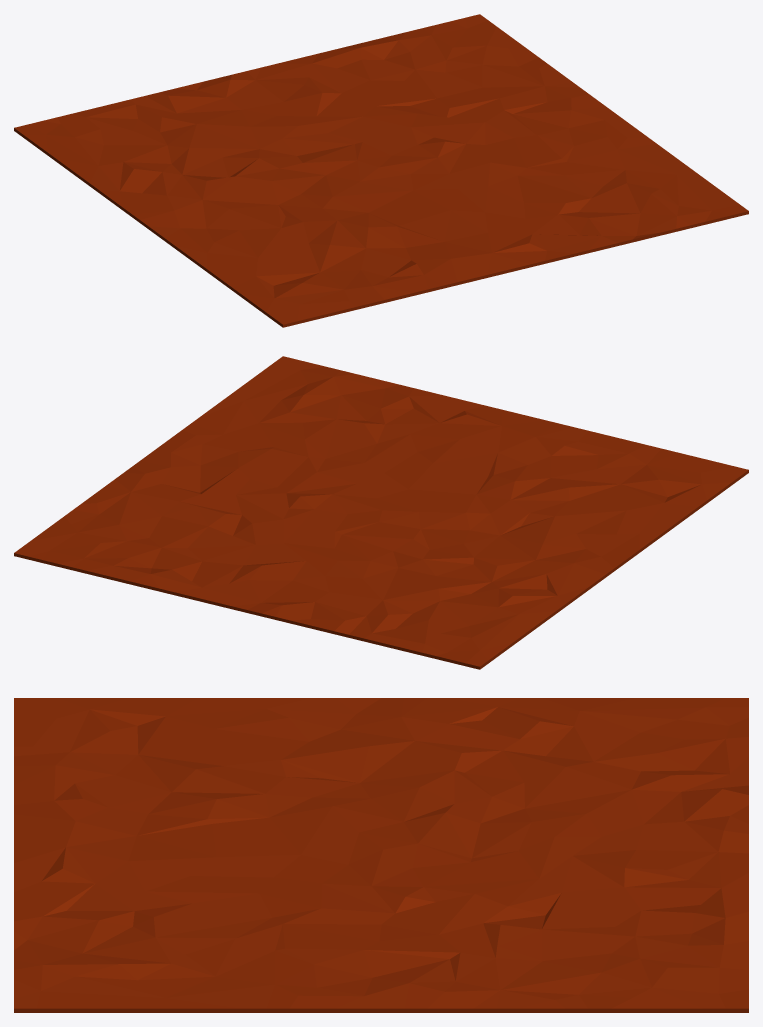
Rendered from PlanetFloorRed_02.glb.
3 renders of one model, top to bottom at view 1: azimuth 30°, elevation 25°; view 2: azimuth 150°, elevation 25°; view 3: azimuth 270°, elevation 25°, orthographic. The views are drawn at different scales.
Parts seen in each view (by area): view 1: PlanetFloorRed_02; view 2: PlanetFloorRed_02; view 3: PlanetFloorRed_02.
Part boxes in pixels (bbox=[...]): PlanetFloorRed_02: bbox=[14, 14, 748, 327]; PlanetFloorRed_02: bbox=[14, 356, 748, 669]; PlanetFloorRed_02: bbox=[14, 698, 748, 1012].
Size of what is drawn, in the model's own units: 16 by 0.2405 by 16.
Materials: 1 (1 with a texture image).
